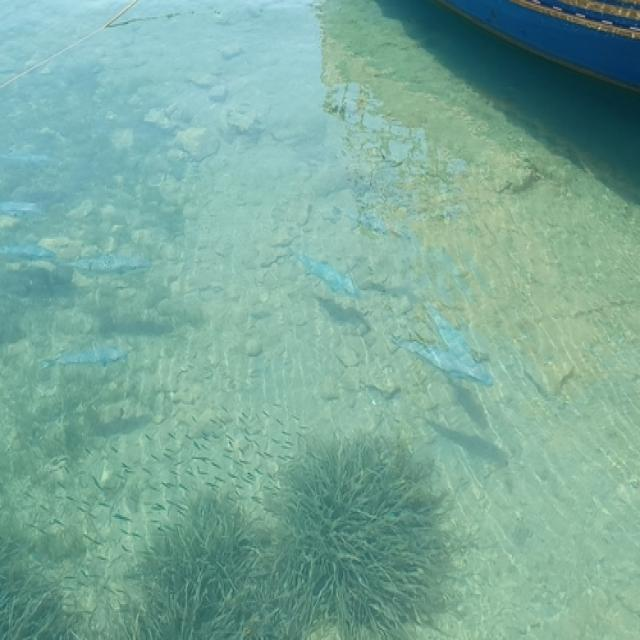Balik: (392, 338, 494, 387), (299, 255, 359, 298), (41, 349, 127, 368), (67, 255, 151, 274), (0, 245, 56, 261)
